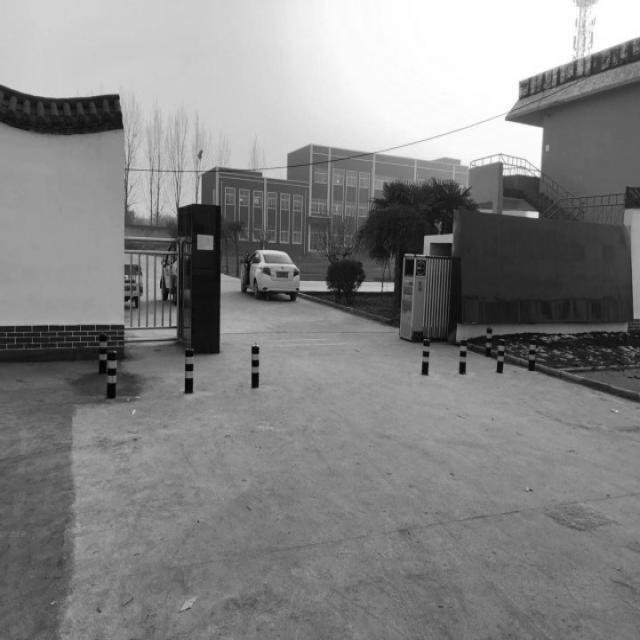car: (239, 247, 300, 301)
tricycle: (124, 262, 143, 306)
warning_column: (102, 346, 118, 398), (182, 345, 195, 391), (248, 340, 260, 388), (95, 331, 108, 373), (494, 337, 506, 373), (456, 337, 468, 373), (525, 336, 537, 369), (420, 337, 430, 373), (482, 324, 492, 356)
